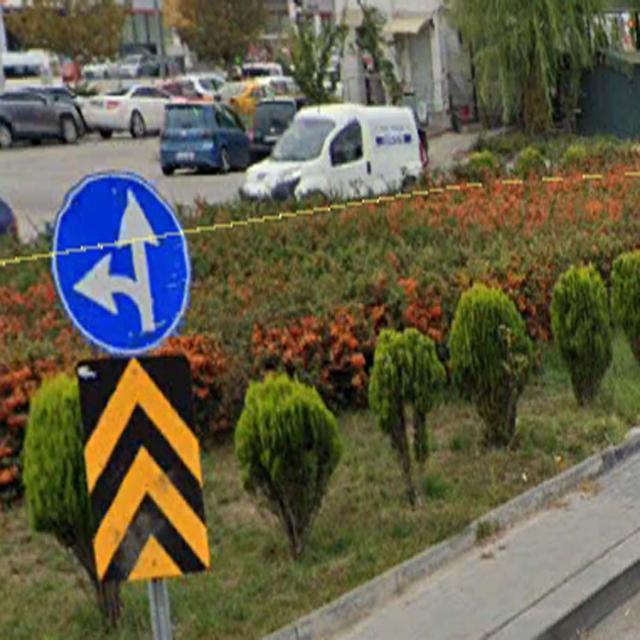ilerisol: (52, 169, 191, 352)
